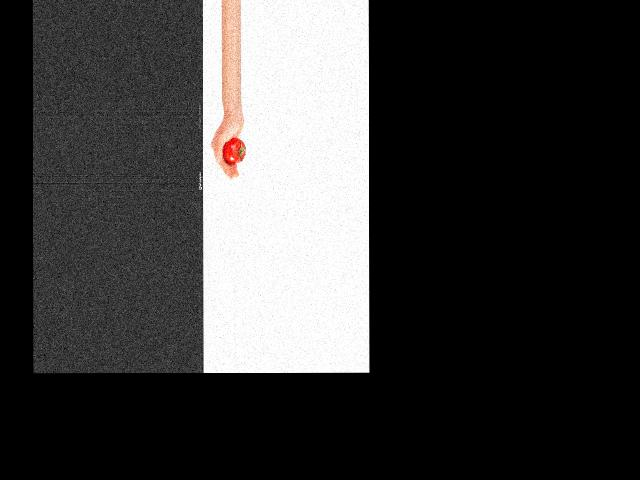tomato: (222, 137, 245, 162)
